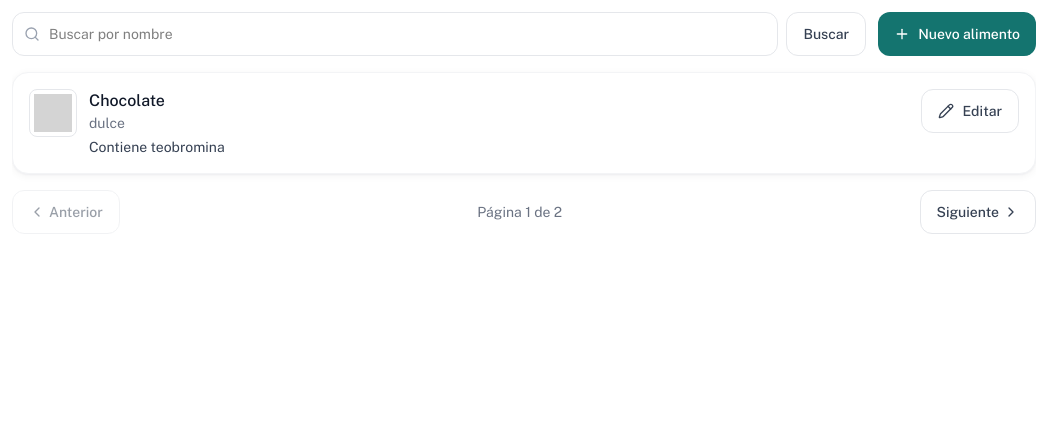
Test: FoodsTab › edits a food in place and keeps the current page
The image size is (1048, 440).
expect the text "Chocolate" is shown: met, box [89,91,165,110]
Click the button "Siguiente" at x=978, y=212, box [920,190,1036,234]
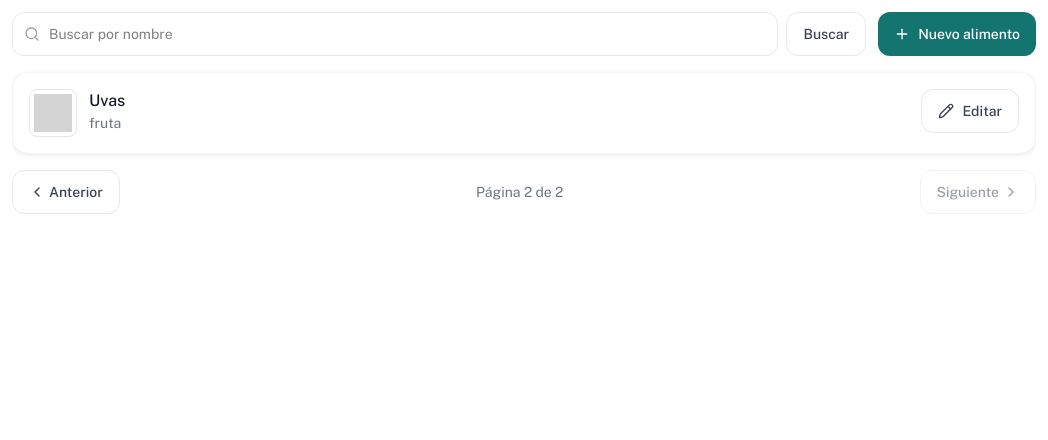
Click the button with aria-label "Editar Uvas" at x=970, y=111, box [922,89,1019,133]
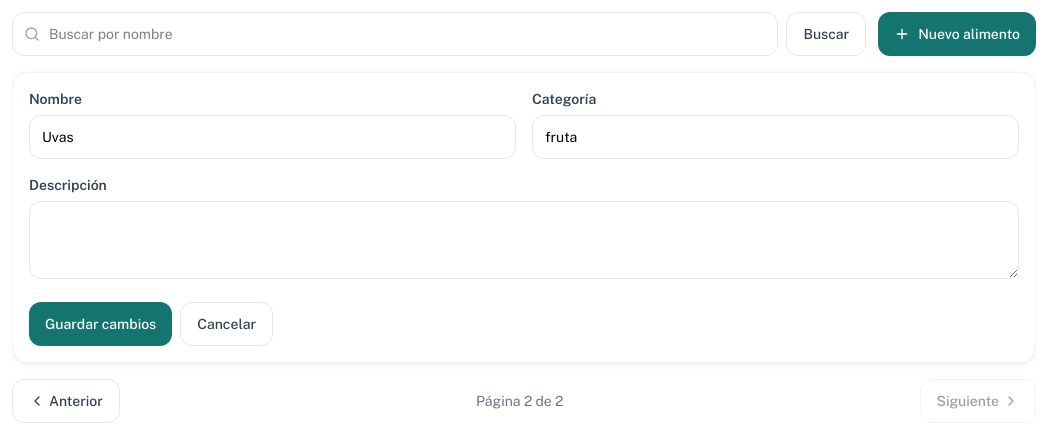
expect the field labelled "Nombre" holds "Uvas": met, box [29,115,516,159]
Type "Y pasas" into the text box labelled "Descripción" at x=524, y=240, box [29,201,1019,279]
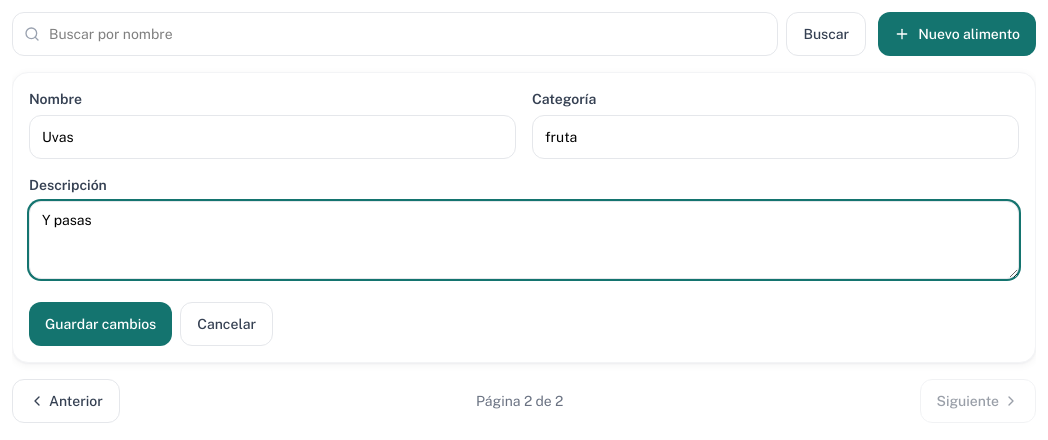
Click the button "Guardar cambios" at x=101, y=324, box [29,302,172,346]
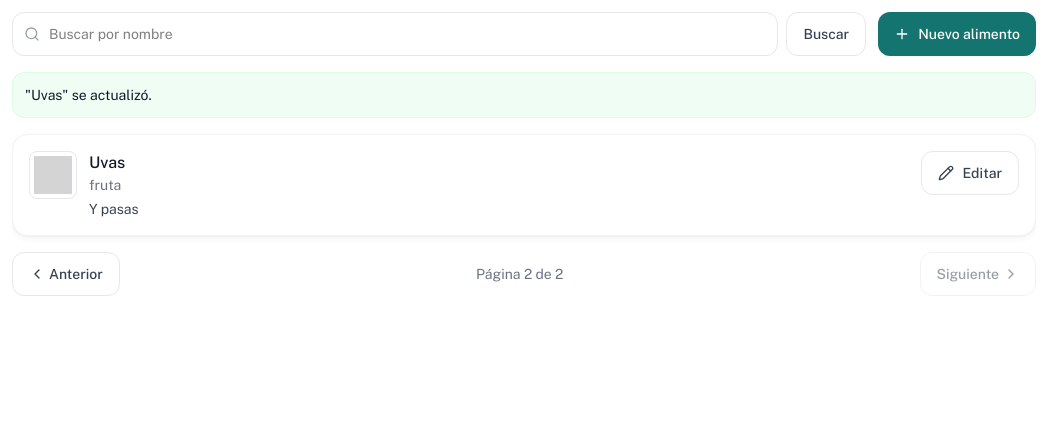
expect the text "\"Uvas\" se actualizó." is shown: met, box [12,72,1036,118]
expect the text "Y pasas" is shown: met, box [89,199,138,219]
